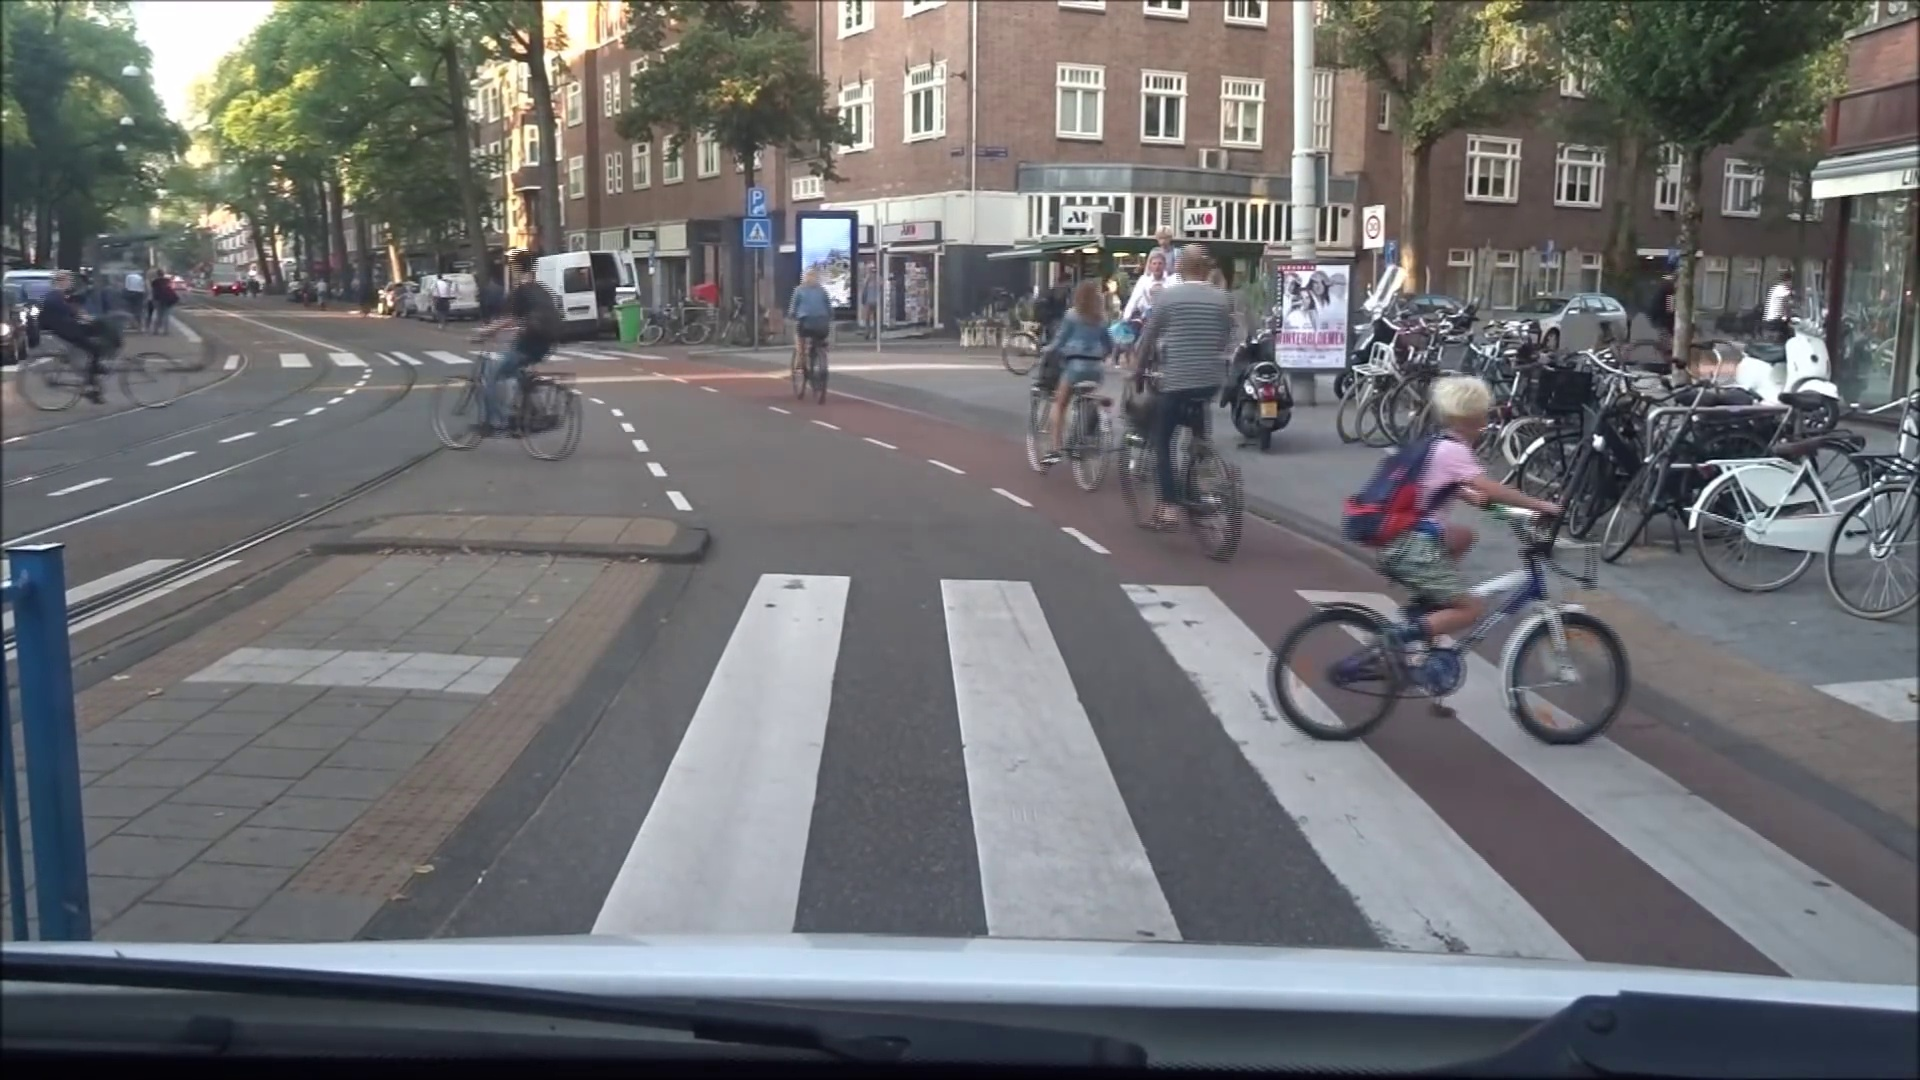cyclist_back: (1119, 232, 1253, 559), (1021, 272, 1107, 496), (782, 258, 838, 408)
cyclist_side: (1266, 347, 1655, 761), (436, 245, 584, 464), (18, 262, 198, 415)
